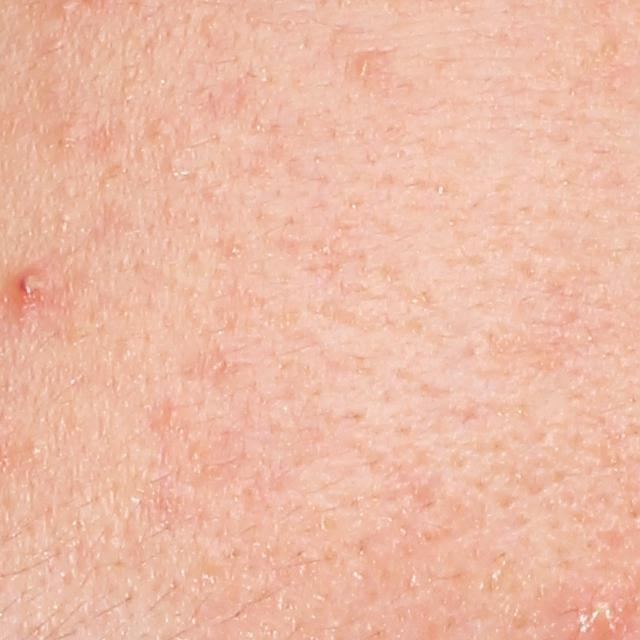comedo: (349, 53, 376, 80), (51, 124, 77, 152), (200, 13, 225, 40), (20, 438, 44, 462), (58, 178, 80, 203), (227, 242, 241, 256)
pustule: (582, 586, 624, 634)
